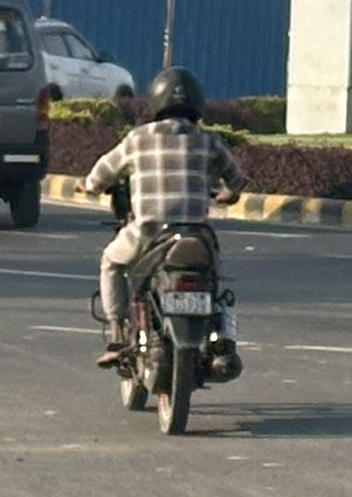BikeWithRider: (73, 65, 250, 435)
Helmet: (145, 65, 207, 121)
